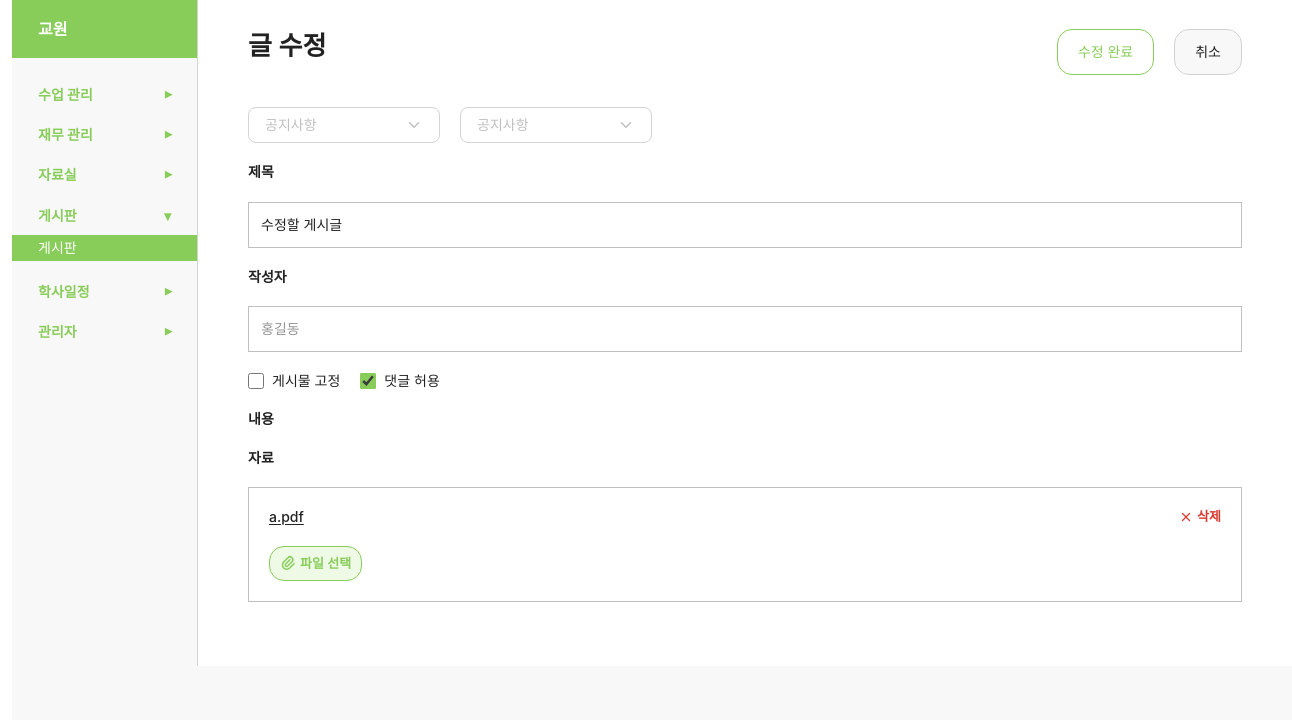
refuses to change attachments on someone else's post before turning it into a draft
Click the button "삭제". click: (1200, 517)
box: [1179,508,1221,525]
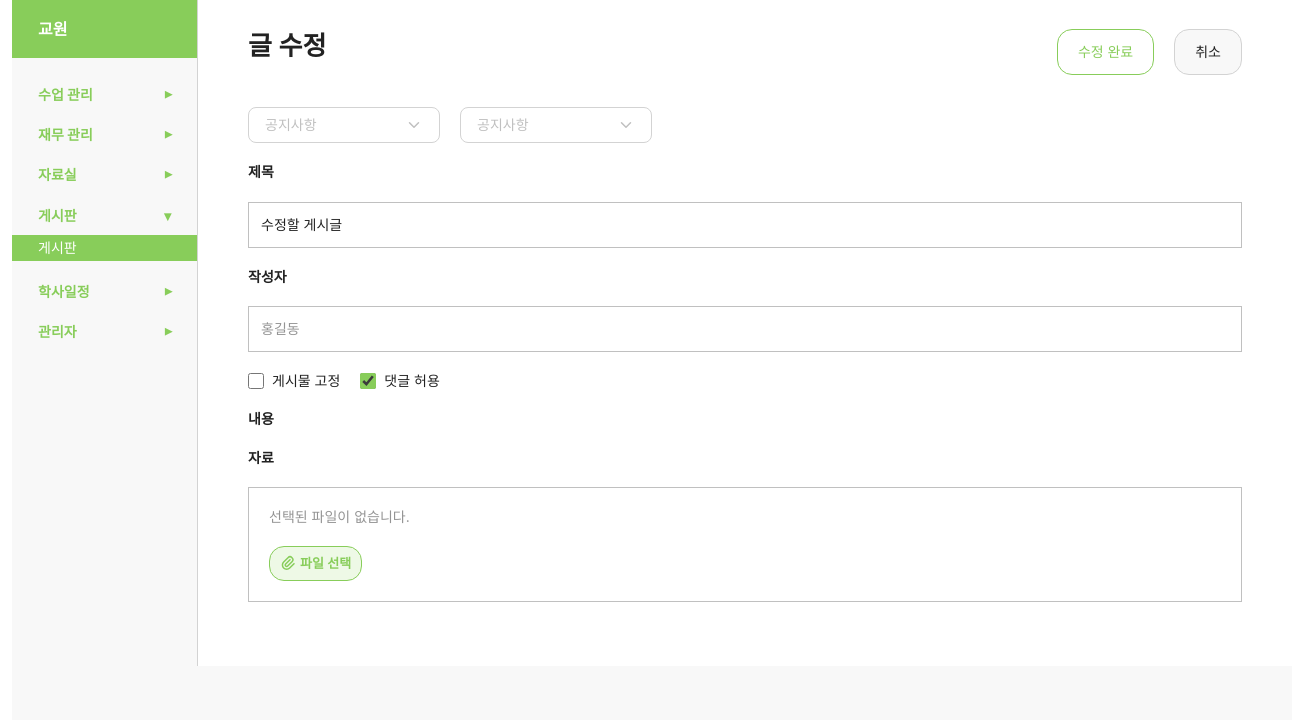
Click the submit button. click: (1106, 52)
box: [1057,29,1154,75]
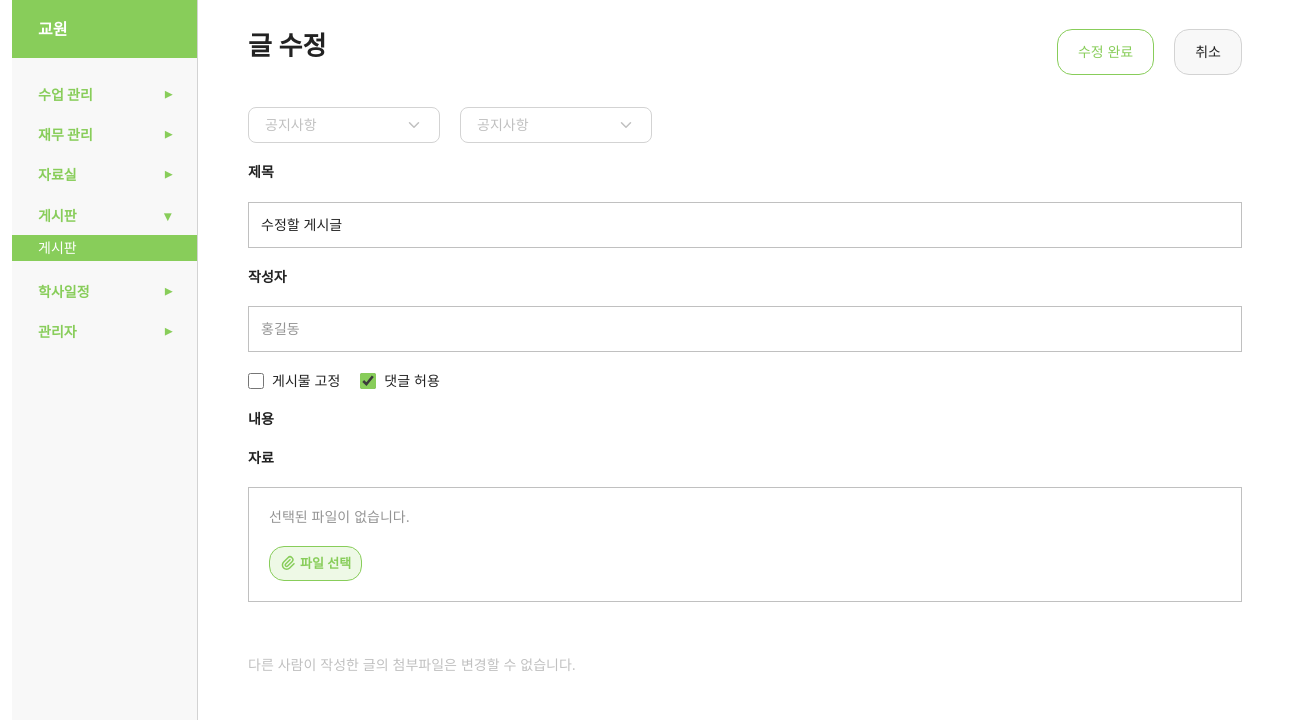
Expected: the text "다른 사람이 작성한 글의 첨부파일은 변경할 수 없습니다." is shown, [248,656,576,673]
